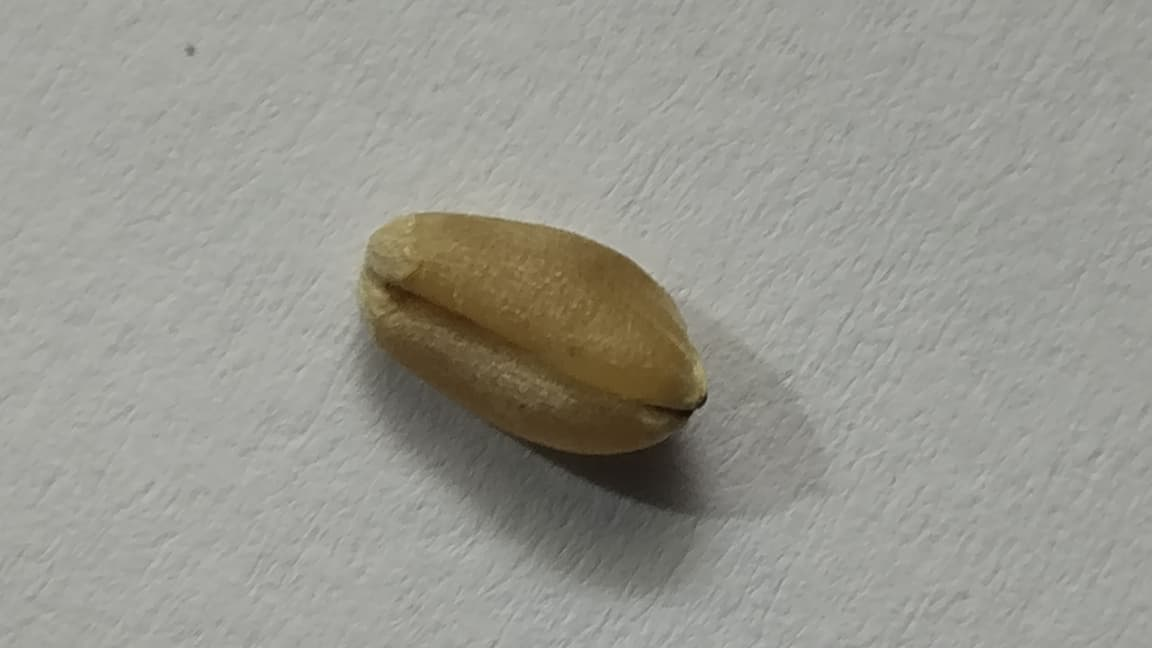healthy: (359, 213, 705, 454)
